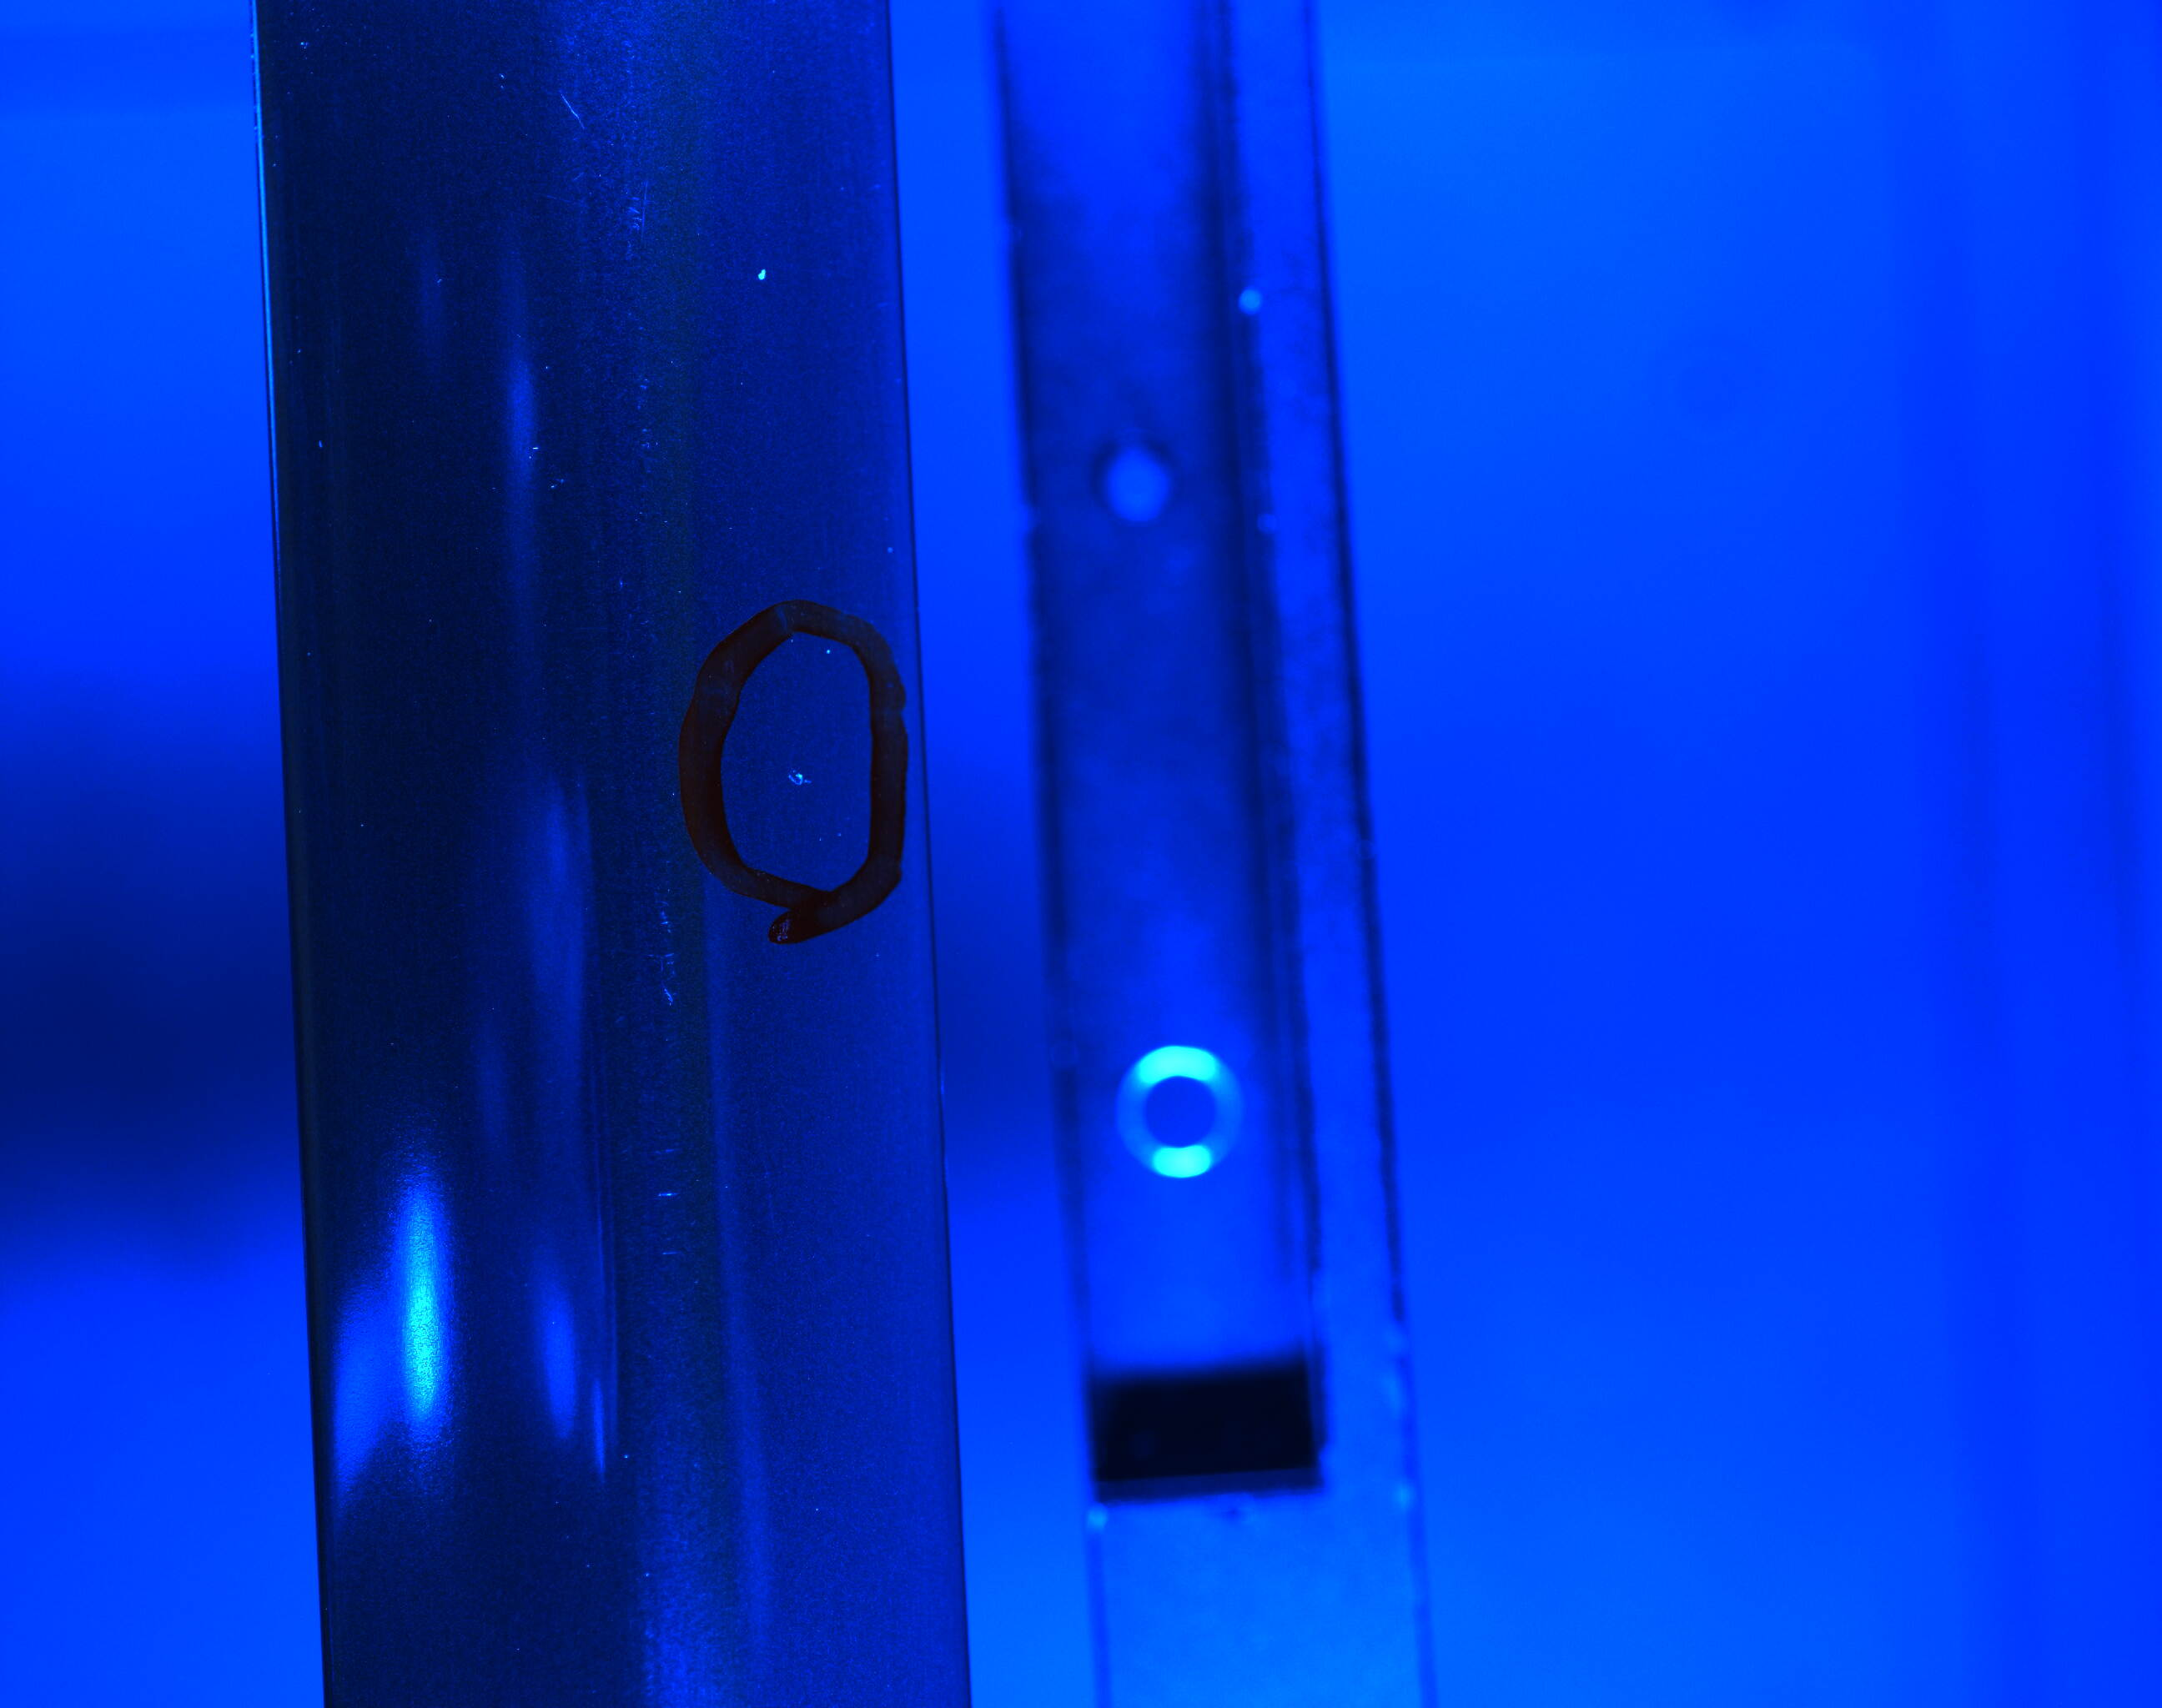NG: (648, 902, 693, 1262), (741, 232, 790, 316), (765, 744, 814, 823)
